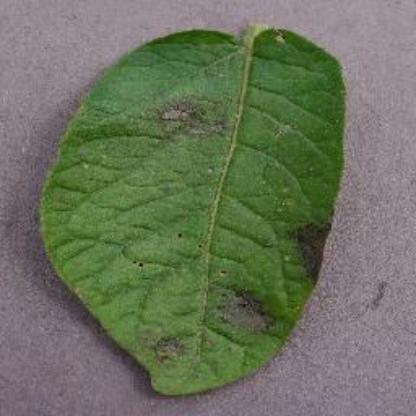Late-Blight: (41, 17, 378, 403)
